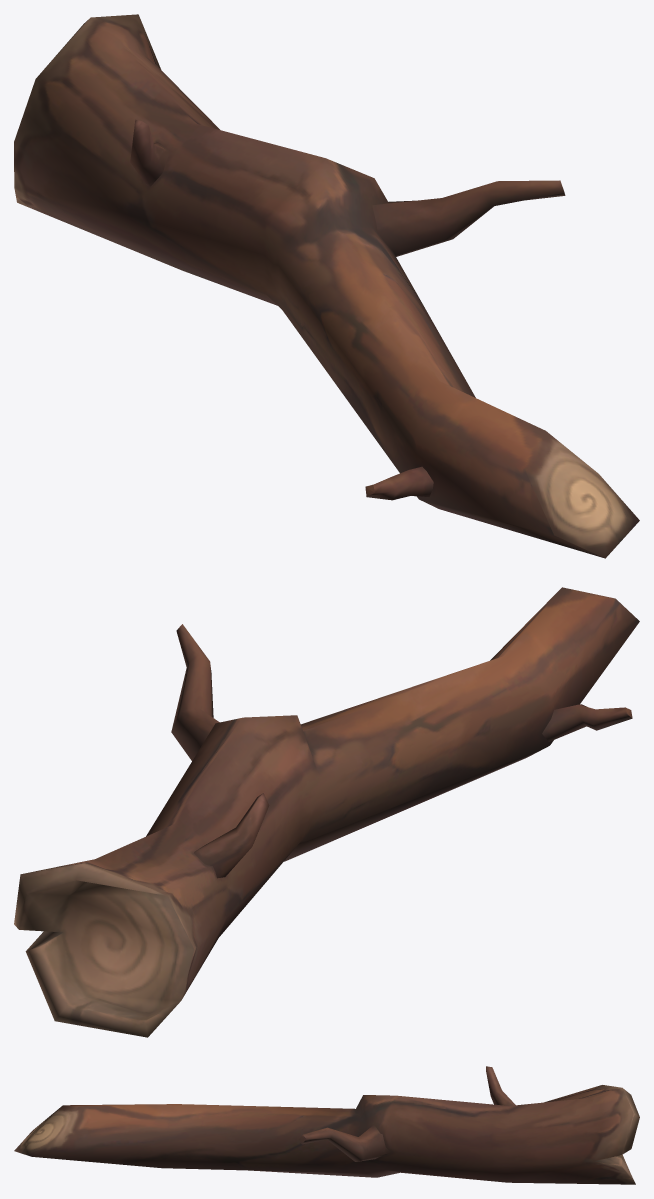
File: shuzhi.FBX
3 renders of one model, top to bottom at view 1: azimuth 30°, elevation 25°; view 2: azimuth 150°, elevation 25°; view 3: azimuth 270°, elevation 25°, orthographic. The views are drawn at different scales.
Parts seen in each view (by area): view 1: Cylinder003; view 2: Cylinder003; view 3: Cylinder003.
Boxes of the visible parts, bbox=[...] form: Cylinder003: bbox=[14, 14, 639, 558]; Cylinder003: bbox=[14, 587, 639, 1037]; Cylinder003: bbox=[14, 1066, 639, 1184].
Bounding box in the file's own units: 0.4762 × 0.2374 × 1.35.
